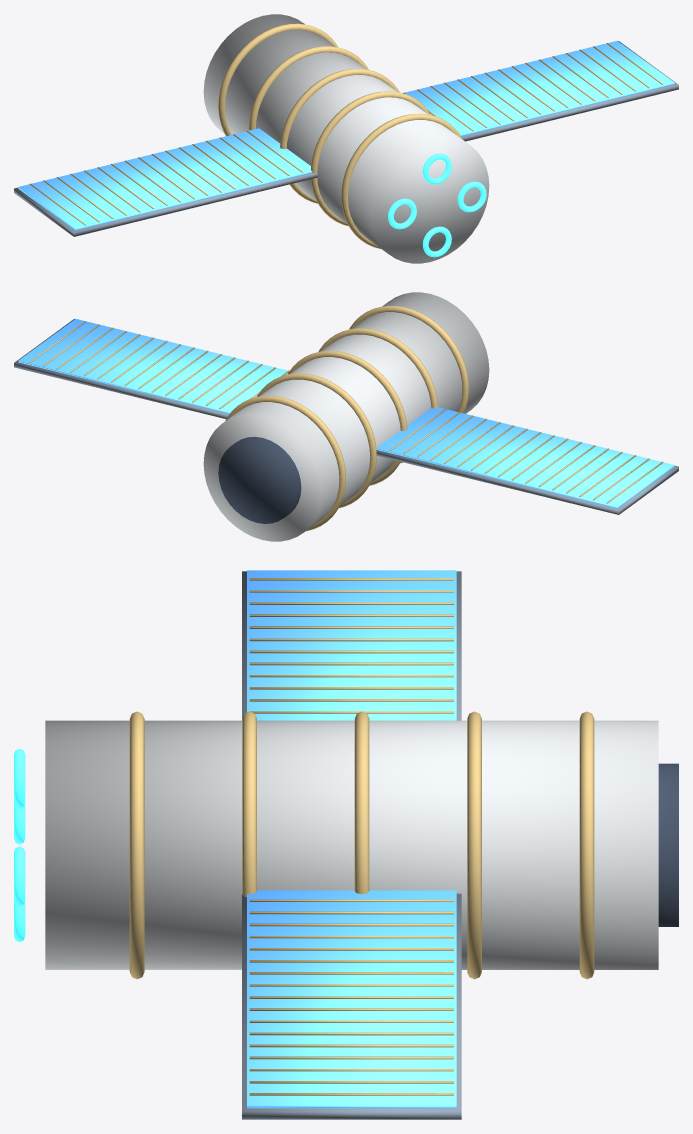
Rendered from 03_L91_Aurora1DeepSpaceSpacecraft.fbx.
3 views of the same model, one above another, from view 1: azimuth 30°, elevation 25°; view 2: azimuth 150°, elevation 25°; view 3: azimuth 270°, elevation 25° (orthographic). The views are drawn at different scales.
Parts seen in each view (by area): view 1: L91_Aurora1DeepSpaceSpacecraf_Part_0000, L91_Aurora1DeepSpaceSpacecraf_Part_0006, L91_Aurora1DeepSpaceSpacecraf_Part_0002, L91_Aurora1DeepSpaceSpacecraf_Part_0005, L91_Aurora1DeepSpaceSpacecraf_Part_0003, L91_Aurora1DeepSpaceSpacecraf_Part_0007, L91_Aurora1DeepSpaceSpacecraf_Part_0004; view 2: L91_Aurora1DeepSpaceSpacecraf_Part_0000, L91_Aurora1DeepSpaceSpacecraf_Part_0006, L91_Aurora1DeepSpaceSpacecraf_Part_0002, L91_Aurora1DeepSpaceSpacecraf_Part_0001, L91_Aurora1DeepSpaceSpacecraf_Part_0005, L91_Aurora1DeepSpaceSpacecraf_Part_0003, L91_Aurora1DeepSpaceSpacecraf_Part_0004; view 3: L91_Aurora1DeepSpaceSpacecraf_Part_0000, L91_Aurora1DeepSpaceSpacecraf_Part_0006, L91_Aurora1DeepSpaceSpacecraf_Part_0002, L91_Aurora1DeepSpaceSpacecraf_Part_0003, L91_Aurora1DeepSpaceSpacecraf_Part_0005, L91_Aurora1DeepSpaceSpacecraf_Part_0004, L91_Aurora1DeepSpaceSpacecraf_Part_0001, L91_Aurora1DeepSpaceSpacecraf_Part_0007.
Part boxes in pixels (x1,y1,x2,y2): L91_Aurora1DeepSpaceSpacecraf_Part_0000: (203, 14, 489, 263); L91_Aurora1DeepSpaceSpacecraf_Part_0006: (18, 40, 674, 230); L91_Aurora1DeepSpaceSpacecraf_Part_0002: (111, 23, 461, 249); L91_Aurora1DeepSpaceSpacecraf_Part_0005: (14, 41, 678, 236); L91_Aurora1DeepSpaceSpacecraf_Part_0003: (29, 66, 568, 225); L91_Aurora1DeepSpaceSpacecraf_Part_0007: (388, 153, 486, 257); L91_Aurora1DeepSpaceSpacecraf_Part_0004: (525, 43, 663, 104); L91_Aurora1DeepSpaceSpacecraf_Part_0000: (203, 292, 489, 541); L91_Aurora1DeepSpaceSpacecraf_Part_0006: (18, 318, 674, 508); L91_Aurora1DeepSpaceSpacecraf_Part_0002: (225, 306, 581, 531); L91_Aurora1DeepSpaceSpacecraf_Part_0001: (218, 436, 301, 523); L91_Aurora1DeepSpaceSpacecraf_Part_0005: (14, 319, 678, 514); L91_Aurora1DeepSpaceSpacecraf_Part_0003: (124, 344, 663, 503); L91_Aurora1DeepSpaceSpacecraf_Part_0004: (29, 321, 167, 382); L91_Aurora1DeepSpaceSpacecraf_Part_0000: (45, 720, 658, 969); L91_Aurora1DeepSpaceSpacecraf_Part_0006: (247, 570, 456, 1108); L91_Aurora1DeepSpaceSpacecraf_Part_0002: (129, 650, 594, 979); L91_Aurora1DeepSpaceSpacecraf_Part_0003: (249, 578, 453, 1010); L91_Aurora1DeepSpaceSpacecraf_Part_0005: (242, 571, 461, 1119); L91_Aurora1DeepSpaceSpacecraf_Part_0004: (249, 1020, 453, 1095); L91_Aurora1DeepSpaceSpacecraf_Part_0001: (658, 763, 678, 926); L91_Aurora1DeepSpaceSpacecraf_Part_0007: (14, 748, 25, 941).
Size of the model in its own units: 12.5 by 2.62 by 6.51.
